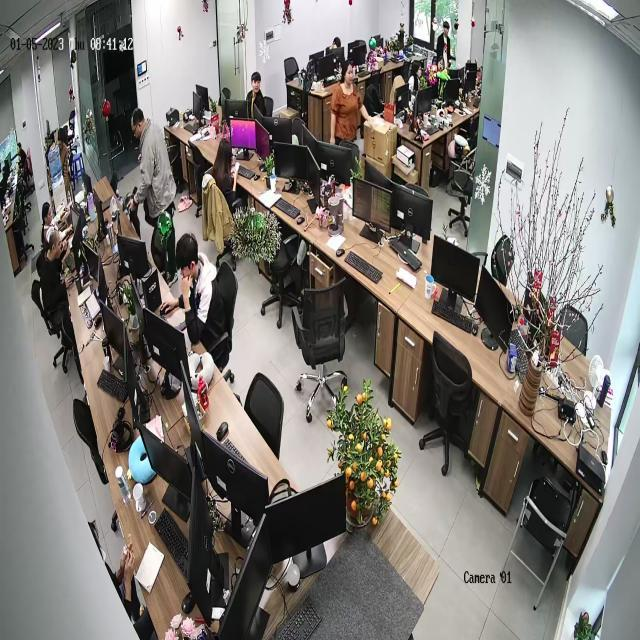person: (128, 107, 178, 283), (178, 232, 228, 353), (36, 228, 74, 332), (330, 59, 370, 152), (202, 136, 233, 212), (247, 71, 269, 121), (435, 18, 453, 74), (406, 55, 426, 102), (42, 199, 58, 234)
